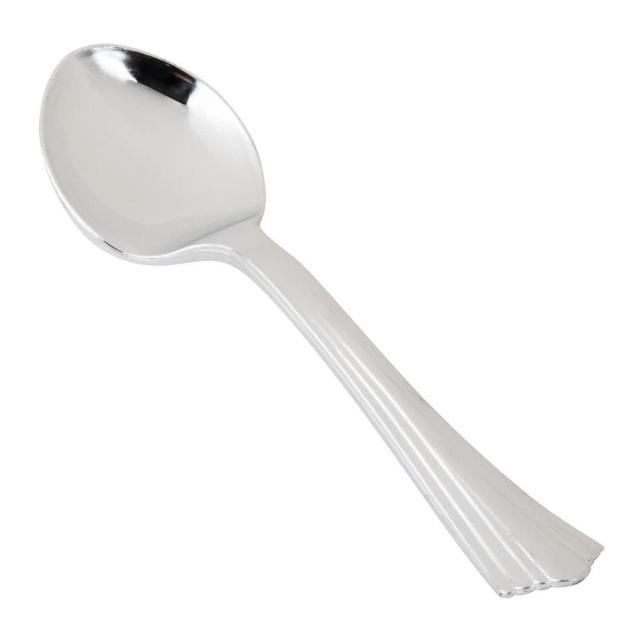spoon: (38, 34, 615, 609)
